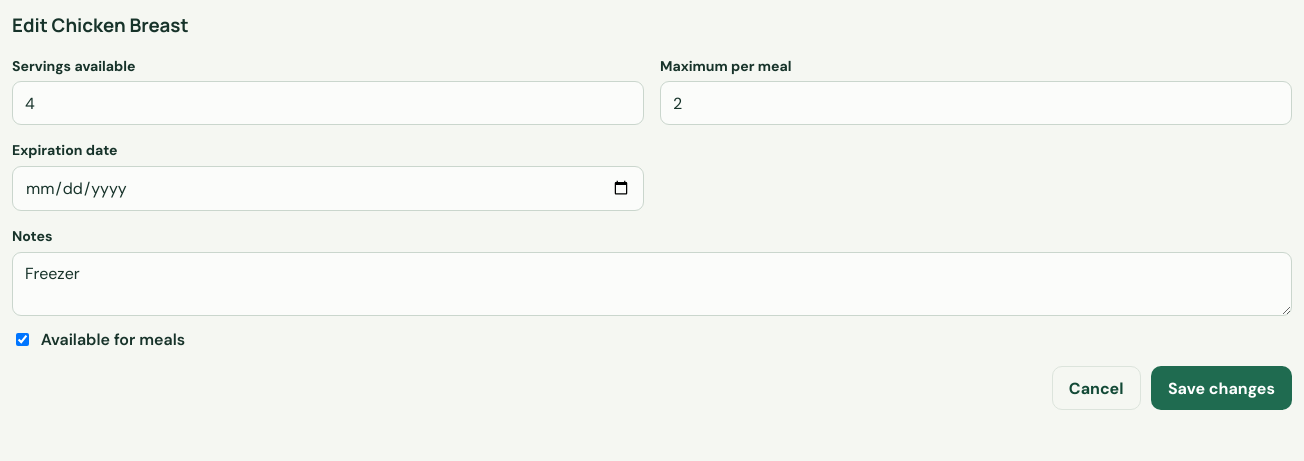
Test: EditPantryItemForm › rejects a maximum above the available amount
Replace the text in the number field labelled "Maximum per meal" with "5". click: x=976, y=103
box: [660, 81, 1292, 125]
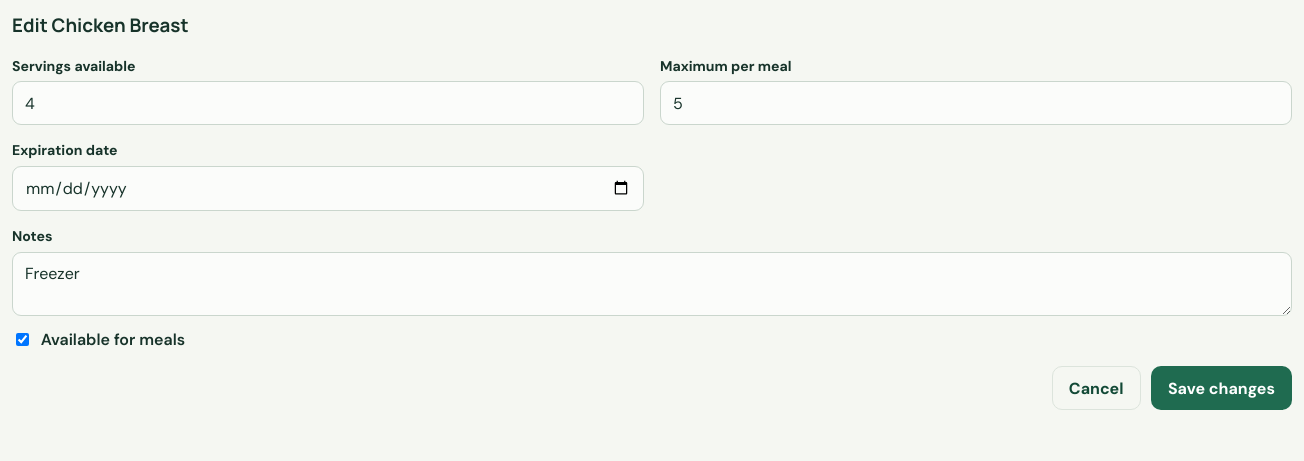
Click the button "Save changes". click: x=1221, y=388
box: [1151, 366, 1292, 410]
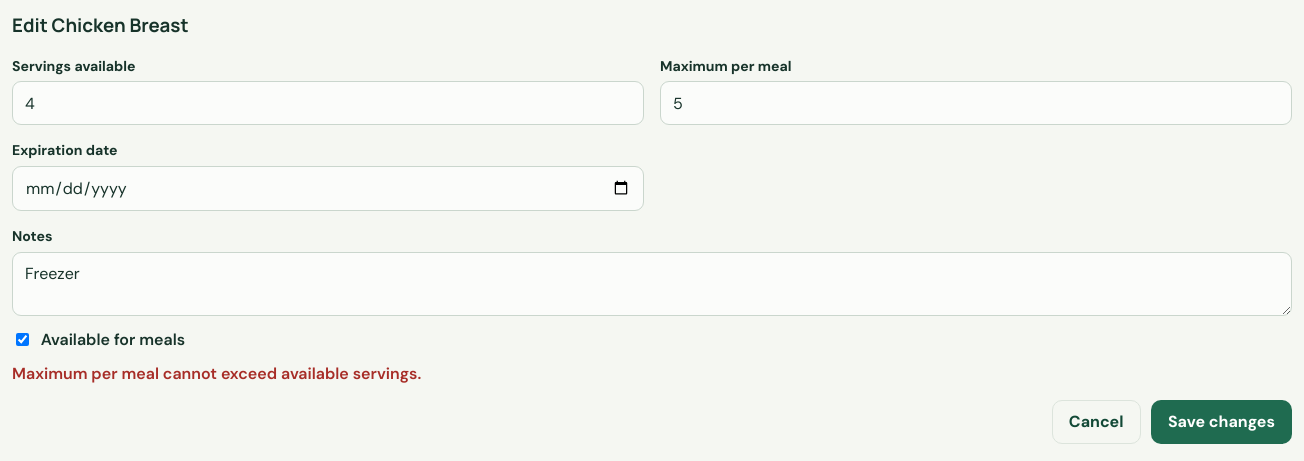
expect the message shows "cannot exceed": met, box [12, 363, 421, 384]
